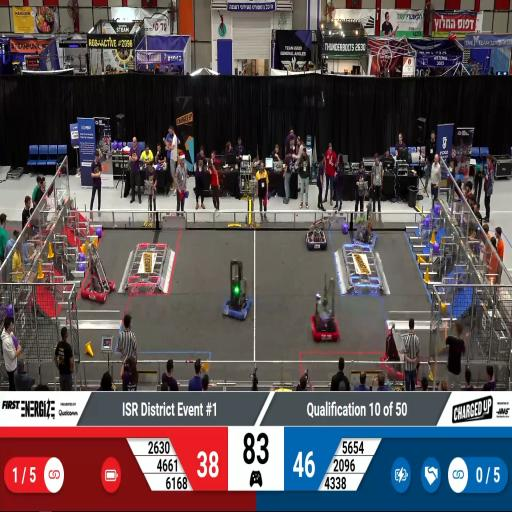robot: (379, 331, 419, 384), (220, 266, 252, 320), (81, 265, 116, 306), (309, 302, 342, 343), (353, 221, 380, 250), (304, 222, 330, 250)
